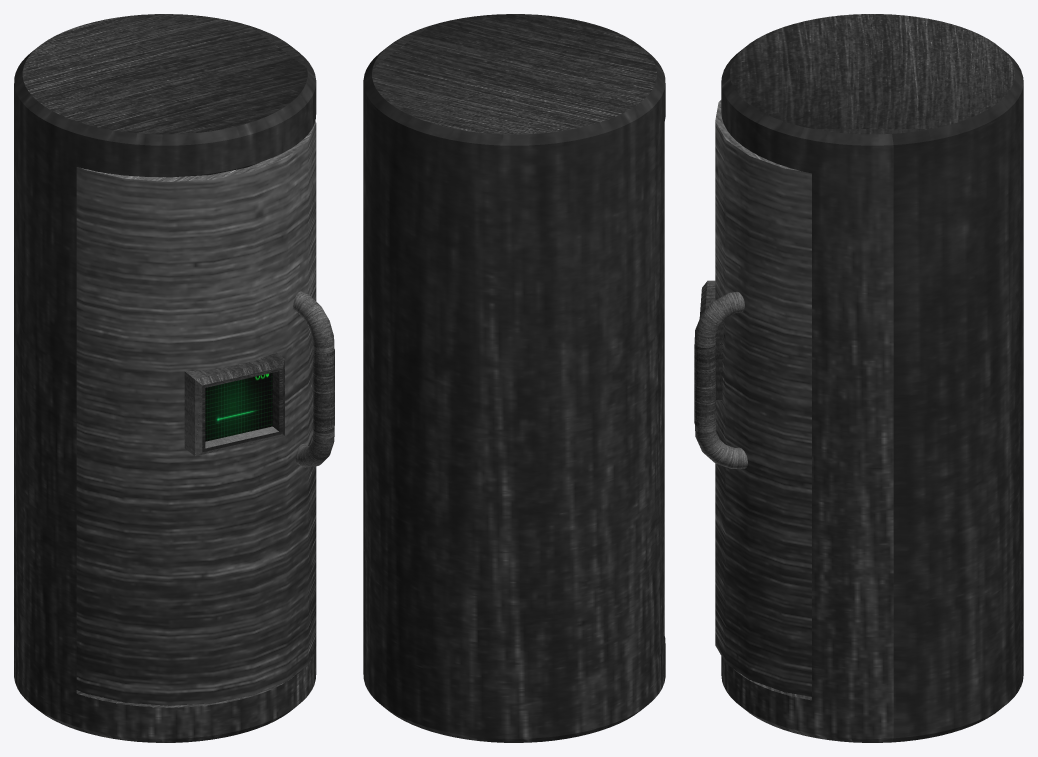
File: Pod_Closed.fbx
3 views of the same model, side by side, from view 1: azimuth 30°, elevation 25°; view 2: azimuth 150°, elevation 25°; view 3: azimuth 270°, elevation 25° (orthographic).
Parts seen in each view (by area): view 1: polySurface9; view 2: polySurface9; view 3: polySurface9.
Part boxes in pixels (x1=…): polySurface9: x1=14, y1=14, x2=334, y2=742; polySurface9: x1=363, y1=14, x2=665, y2=742; polySurface9: x1=694, y1=14, x2=1023, y2=742.
Bounding box in the file's own units: 5.28 × 11.75 × 5.76.
